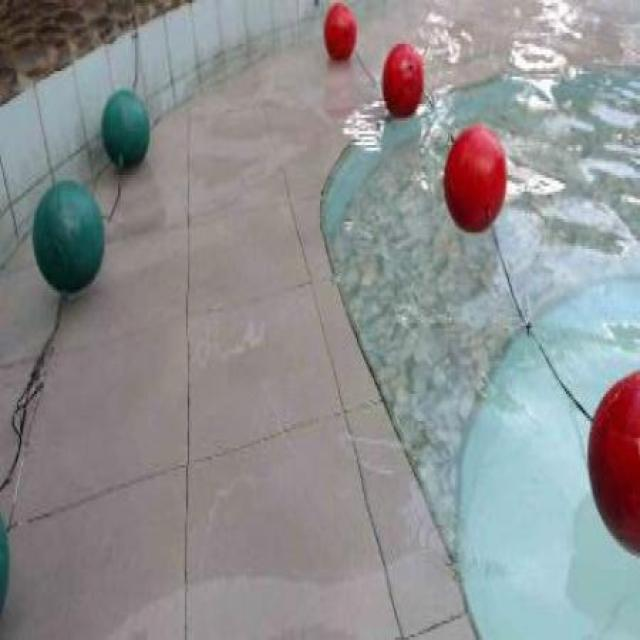buoy: (586, 367, 639, 557), (31, 179, 104, 292), (442, 123, 506, 233), (100, 89, 150, 168), (382, 42, 422, 116), (322, 2, 356, 58)
